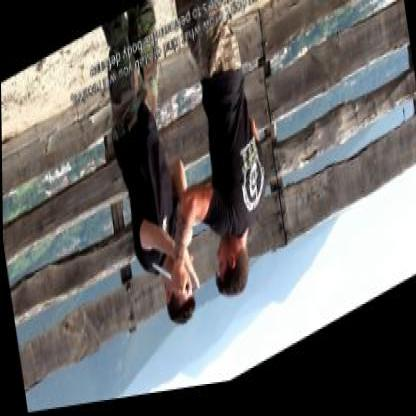knife: (148, 246, 192, 316)
